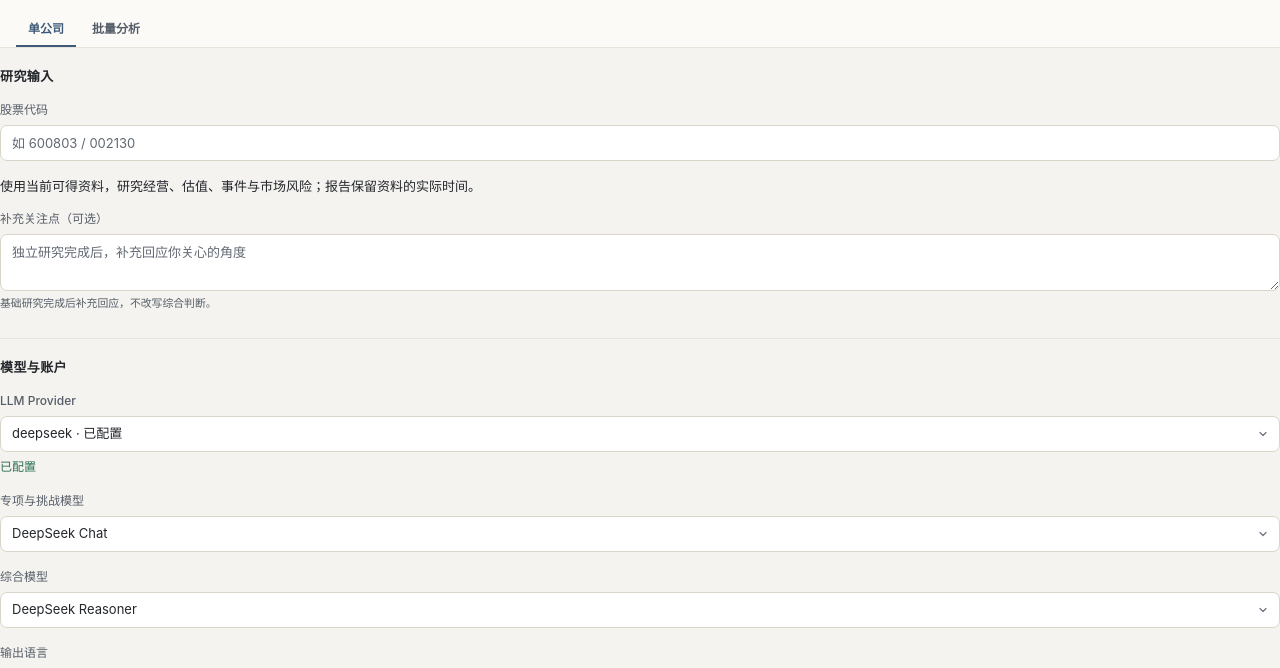
Test: Controls › resets quick/deep to the new provider's first option on provider change
Check: the dropdown labelled "专项与挑战模型" shows "DeepSeek Chat", box [0,516,1279,552]
Check: the dropdown labelled "综合模型" shows "DeepSeek Reasoner", box [0,592,1279,628]
Note: Switch to openai.
Step 1. Select "openai · 未配置" in the dropdown labelled "LLM Provider" → [640, 434], box [0,416,1279,452]
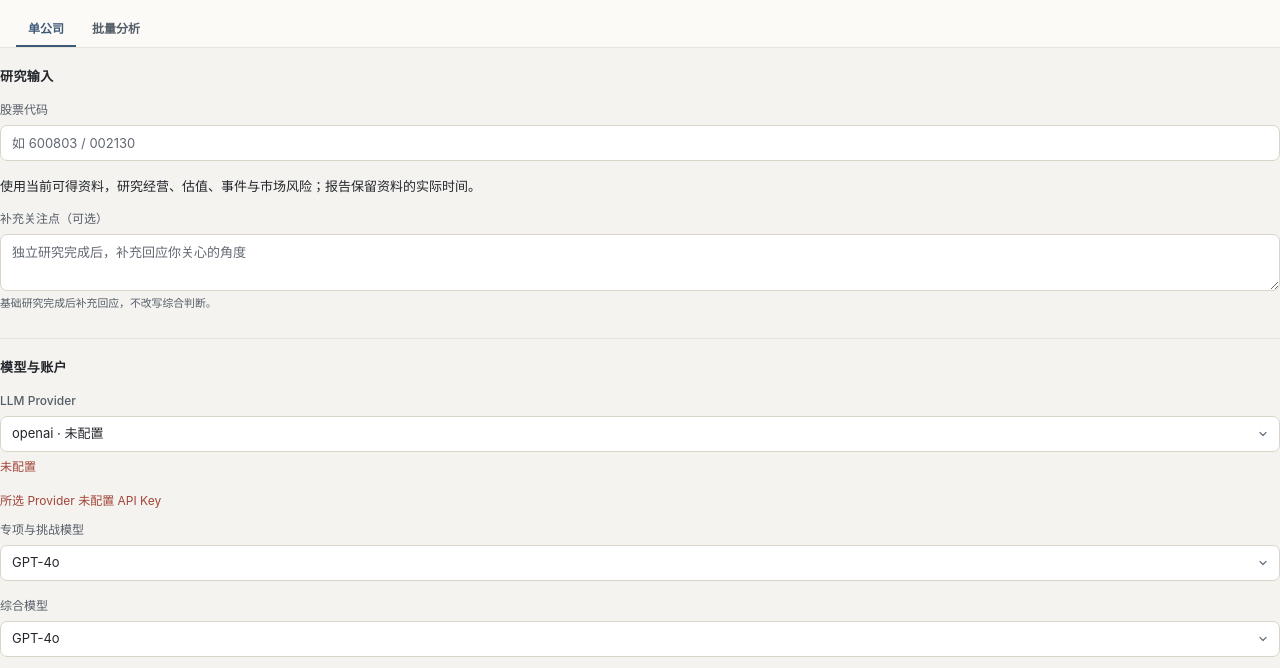
Check: the dropdown labelled "专项与挑战模型" shows "GPT-4o", box [0,545,1279,581]
Check: the dropdown labelled "综合模型" shows "GPT-4o", box [0,621,1279,657]
